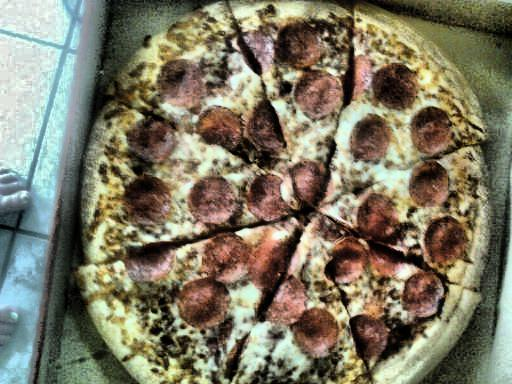pizza: (72, 3, 493, 384)
